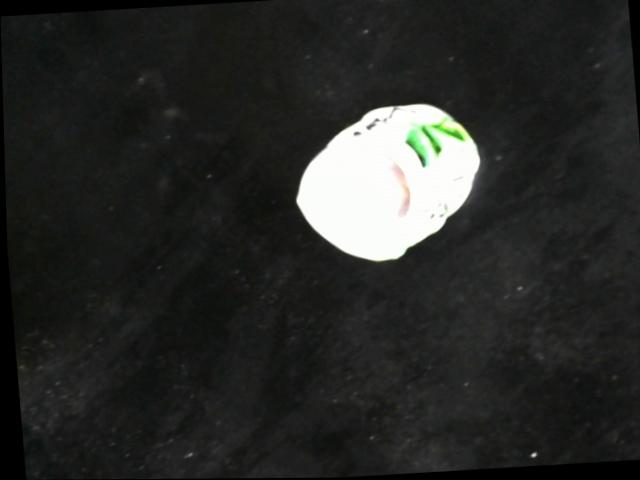can: (289, 96, 489, 276)
